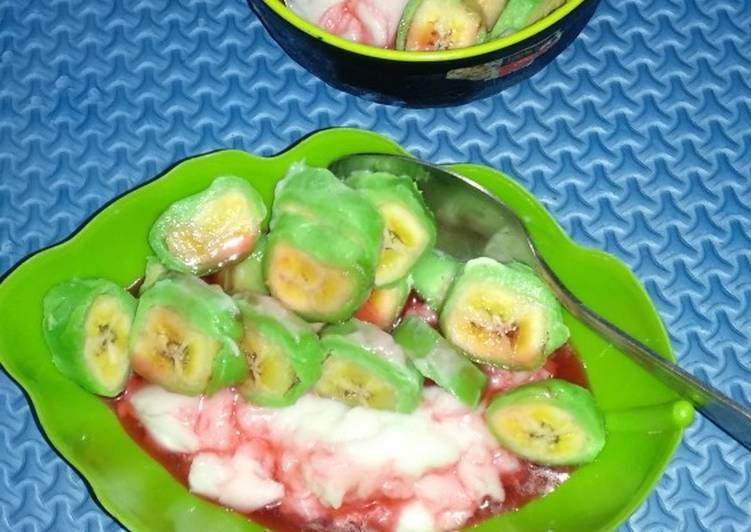es_pisang_ijo: (44, 172, 602, 532)
